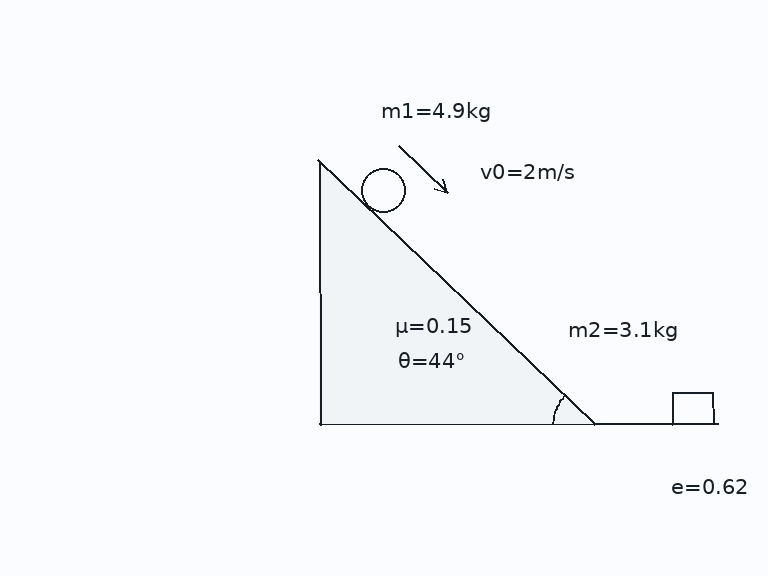ball: (359, 166, 407, 214)
block: (670, 391, 716, 426)
ramp: (318, 158, 595, 426)
